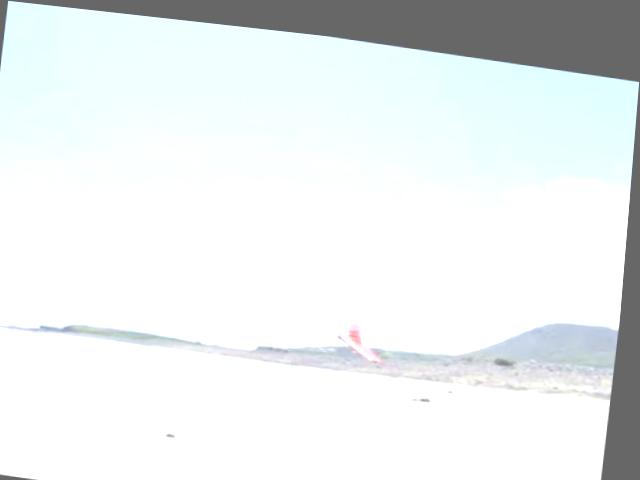flying wing: (341, 309, 390, 356)
